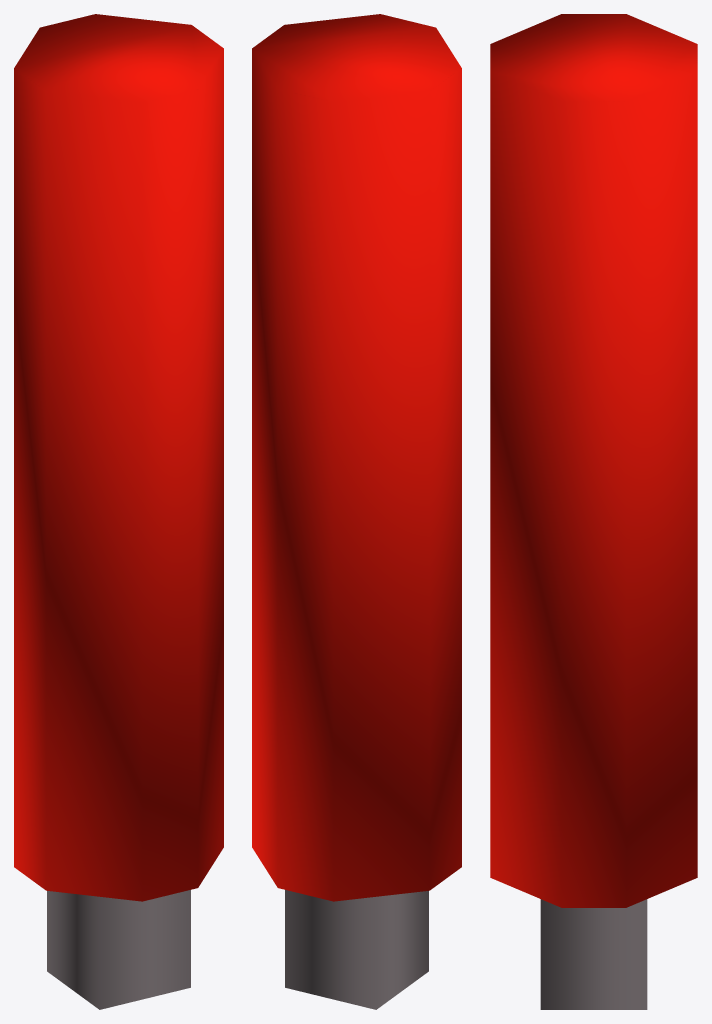
File: Roller.fbx
The picture shows the model from 3 angles, left to right: view 1: azimuth 30°, elevation 25°; view 2: azimuth 150°, elevation 25°; view 3: azimuth 270°, elevation 25°; orthographic projection.
Visible parts, largest first — view 1: Roller; view 2: Roller; view 3: Roller.
Part boxes in pixels (x1,y1,x2,y2): Roller: (14,14,223,1009); Roller: (252,14,461,1009); Roller: (490,14,697,1009).
Size of the model in its own units: 120 by 595 by 120.
1 material, 1 textured.
